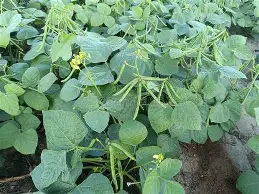crops: (0, 1, 257, 190), (80, 136, 141, 192), (34, 0, 82, 51)
